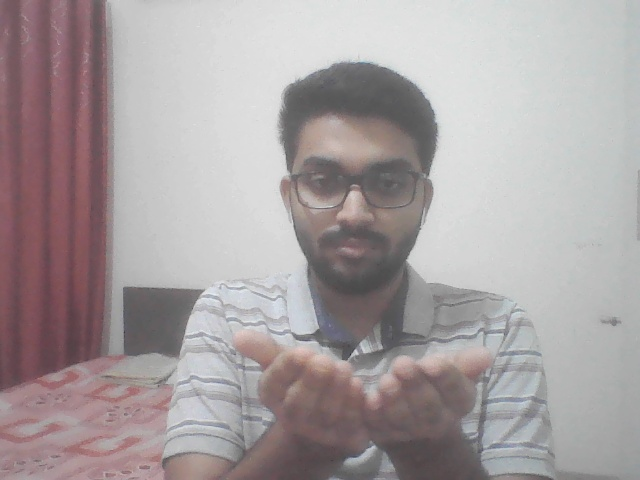book: (205, 306, 522, 461)
